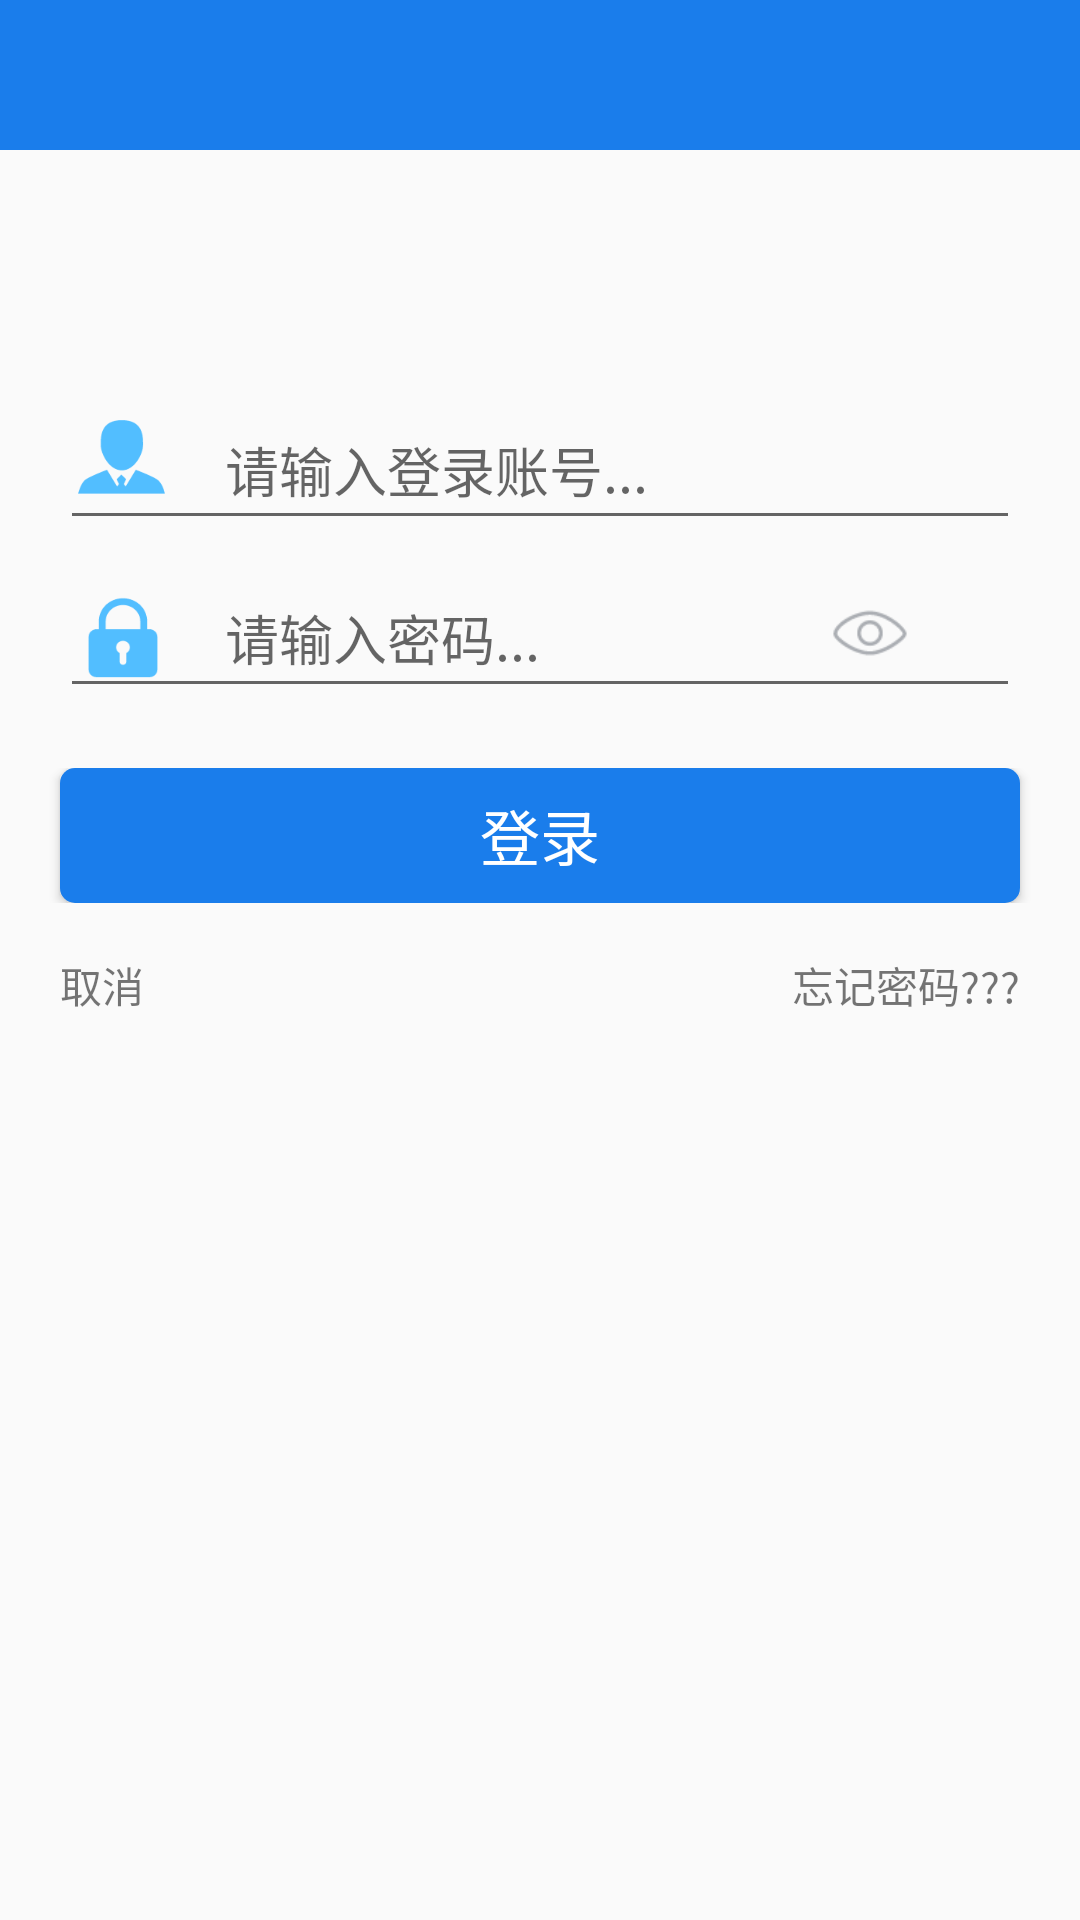

Named icons in this screenshot (1080 x 1920) and their bounding boxes, region(x1, y1, x2, y2):
login code in: region(88, 598, 158, 678)
login usr in: region(78, 420, 165, 494)
